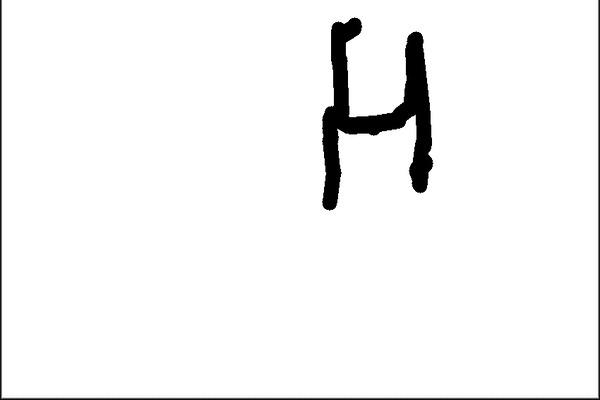H: (311, 10, 434, 213)
